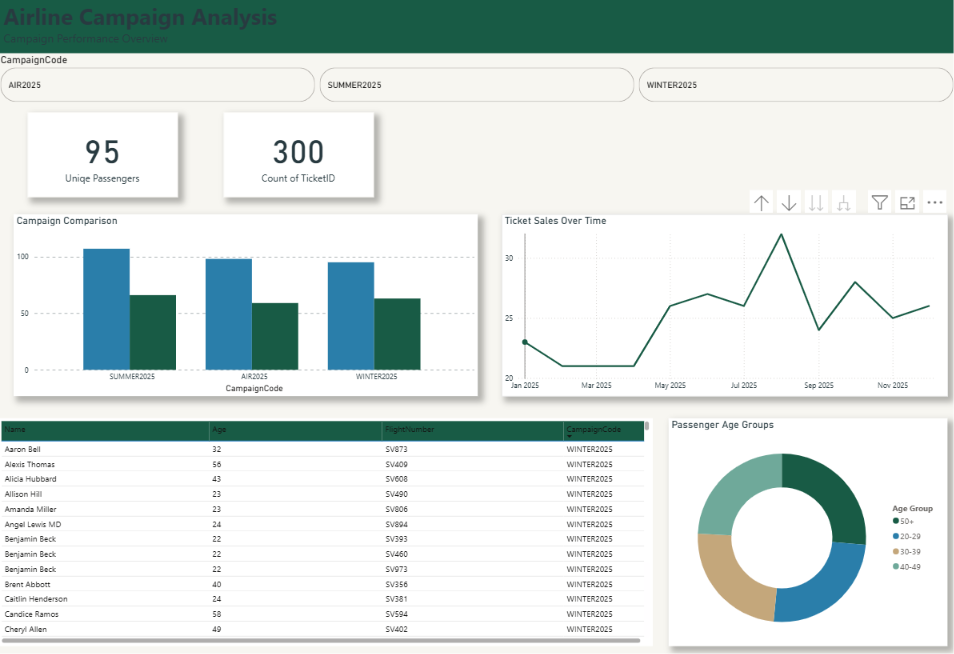

This screenshot's page, from the dashboard's own definition file:
{"tool":"powerbi","page":{"name":"Page 3","canvas":[1600,1100],"ordinal":0},"visuals":[{"type":"textbox","box":[0,0,1600,110],"z":0},{"type":"card","fields":{"Values":["Count(Merge1.PassengerID)"]},"box":[50,195,250,141.7],"z":1000},{"type":"clusteredColumnChart","title":"Campaign Comparison","fields":{"Category":["Merge1.CampaignCode"],"Y":["CountNonNull(Merge1.TicketID)","Count(Merge1.PassengerID)"]},"box":[26.7,365,773.3,303.3],"z":3000},{"type":"advancedSlicerVisual","fields":{"Values":["Merge1.CampaignCode"]},"box":[0,96.7,1600,86.7],"z":3001},{"type":"lineChart","title":"Ticket Sales Over Time","fields":{"Y":["CountNonNull(Merge1.TicketID)"],"Category":["Merge1.PurchaseDate.Variation.Date Hierarchy.Year","Merge1.PurchaseDate.Variation.Date Hierarchy.Month"]},"box":[840,365,743.3,303.3],"z":3002},{"type":"donutChart","title":"Passenger Age Groups","fields":{"Category":["Merge1.Age Group"],"Y":["Count(Merge1.PassengerID)"]},"box":[1118.3,705,465,380],"z":3003},{"type":"tableEx","fields":{"Values":["Merge1.Name","Merge1.Age","Merge1.FlightNumber","Merge1.CampaignCode"]},"box":[0,705,1091.7,380],"z":3004},{"type":"actionButton","box":[0,0,100,40],"z":3005},{"type":"card","fields":{"Values":["CountNonNull(Merge1.TicketID)"]},"box":[376.7,195,250,141.7],"z":3006}]}

Visuals, with their boxes in screenshot pixels (x1, y1, x2, y2), scaled from the page's 1600x1100 canvas onto the 954x654 screenshot:
textbox: bbox(0, 0, 953, 65)
card - Count(Merge1.PassengerID): bbox(30, 116, 179, 200)
"Campaign Comparison" clusteredColumnChart: bbox(16, 217, 477, 397)
advancedSlicerVisual - Merge1.CampaignCode: bbox(0, 57, 953, 109)
"Ticket Sales Over Time" lineChart: bbox(501, 217, 944, 397)
"Passenger Age Groups" donutChart: bbox(667, 419, 944, 645)
tableEx - Merge1.Name x Merge1.Age: bbox(0, 419, 651, 645)
actionButton: bbox(0, 0, 60, 24)
card - CountNonNull(Merge1.TicketID): bbox(225, 116, 374, 200)
